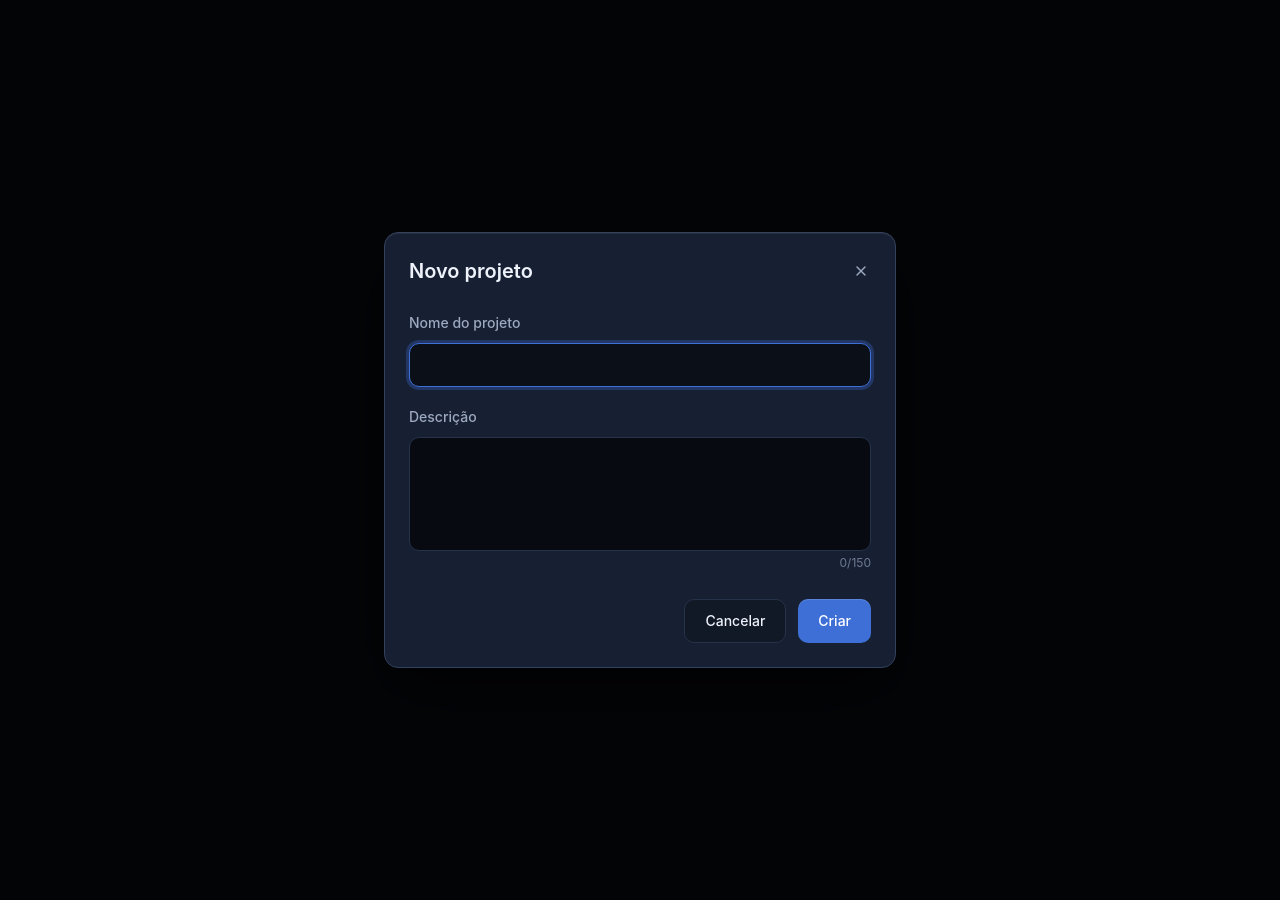
Test: ProjectFormModal › modo criação › deve exibir mensagem genérica quando o erro não trouxer mensagem da API
Type "Loja" into the field labelled "Nome do projeto" at (640, 365), box [409, 343, 871, 387]
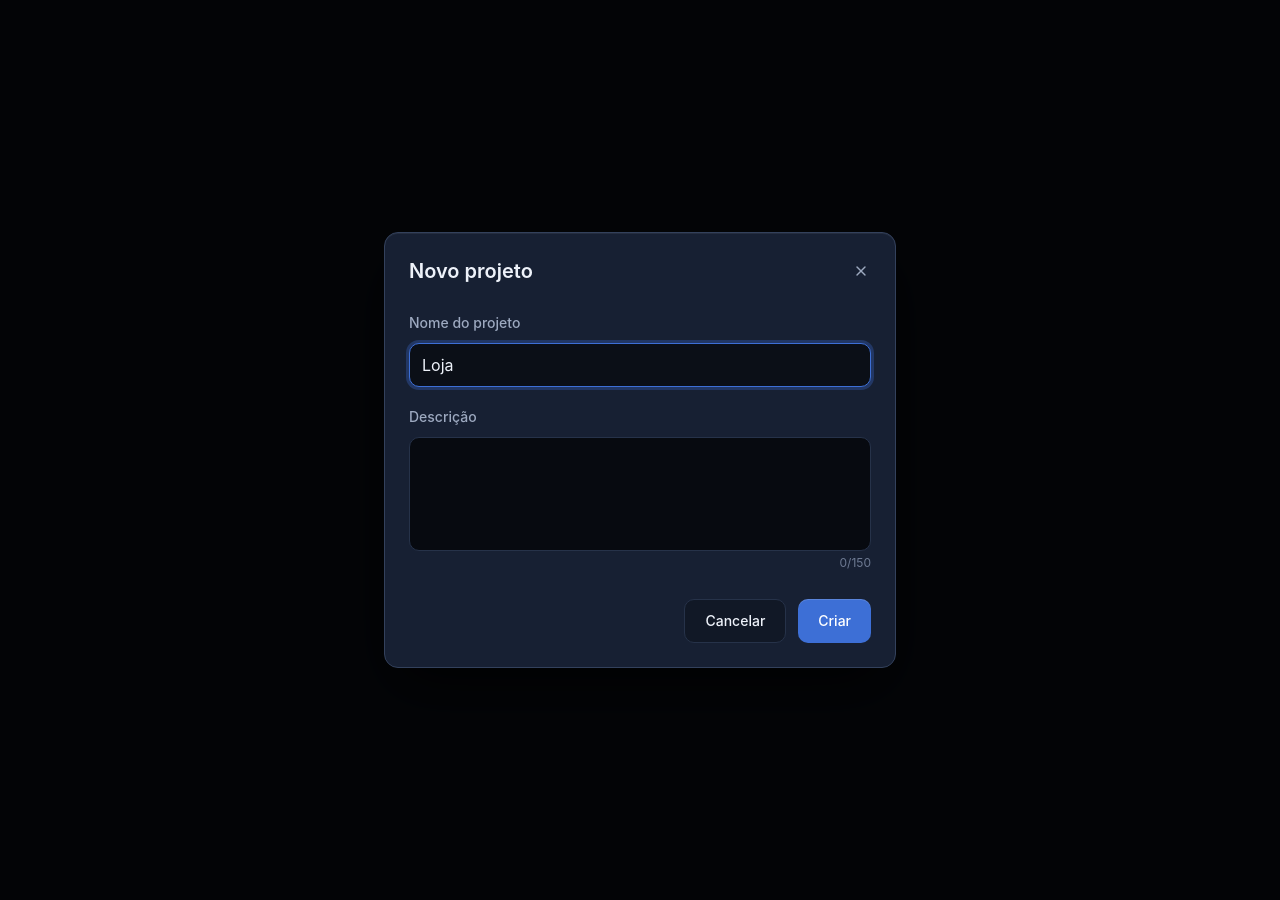
Click the button "Criar" at (835, 621), box [798, 599, 871, 643]
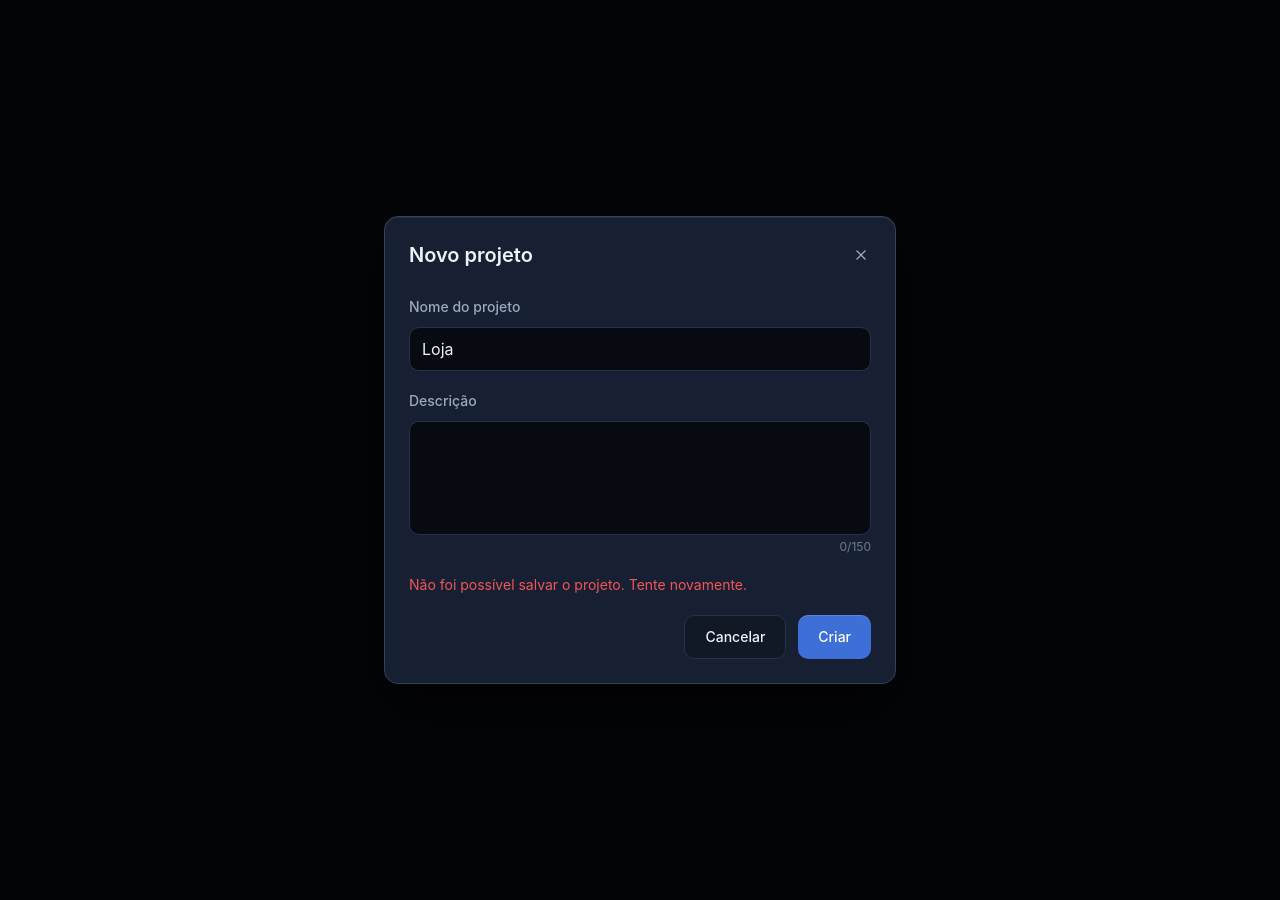
Result: the message reads "Não foi possível salvar o projeto. Tente novamente." at [409, 576, 747, 593]
